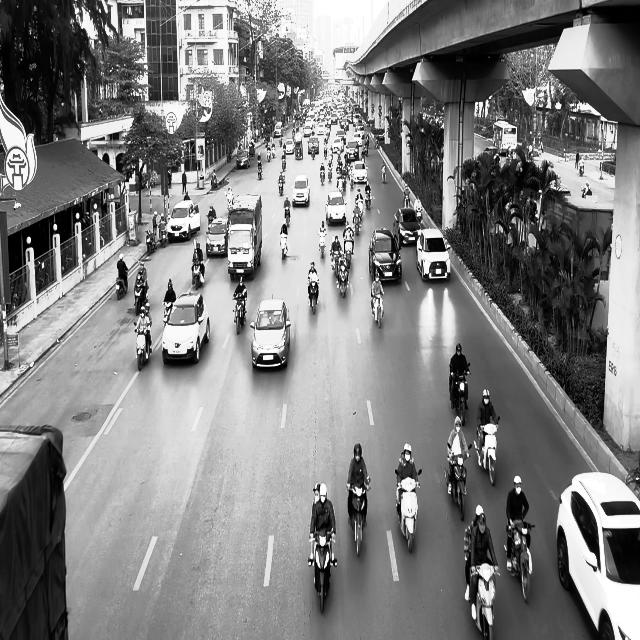bus: (492, 119, 518, 155)
car: (555, 471, 640, 640), (162, 292, 210, 364), (250, 298, 290, 370), (416, 228, 451, 282), (368, 227, 402, 282), (167, 198, 200, 242), (393, 207, 421, 246), (205, 218, 228, 257), (325, 191, 347, 225), (291, 174, 310, 206), (236, 150, 250, 168)
motorbike: (504, 520, 535, 603), (468, 560, 500, 640), (394, 468, 422, 552), (444, 446, 471, 521), (312, 529, 336, 613), (347, 478, 370, 556), (475, 416, 500, 486), (449, 363, 470, 426), (133, 320, 152, 370), (232, 293, 247, 335), (134, 281, 148, 315), (307, 276, 319, 314), (115, 267, 128, 300), (191, 260, 205, 290), (371, 293, 383, 328), (280, 231, 288, 260), (318, 230, 326, 258), (278, 172, 285, 195)
truck: (226, 193, 262, 280)
